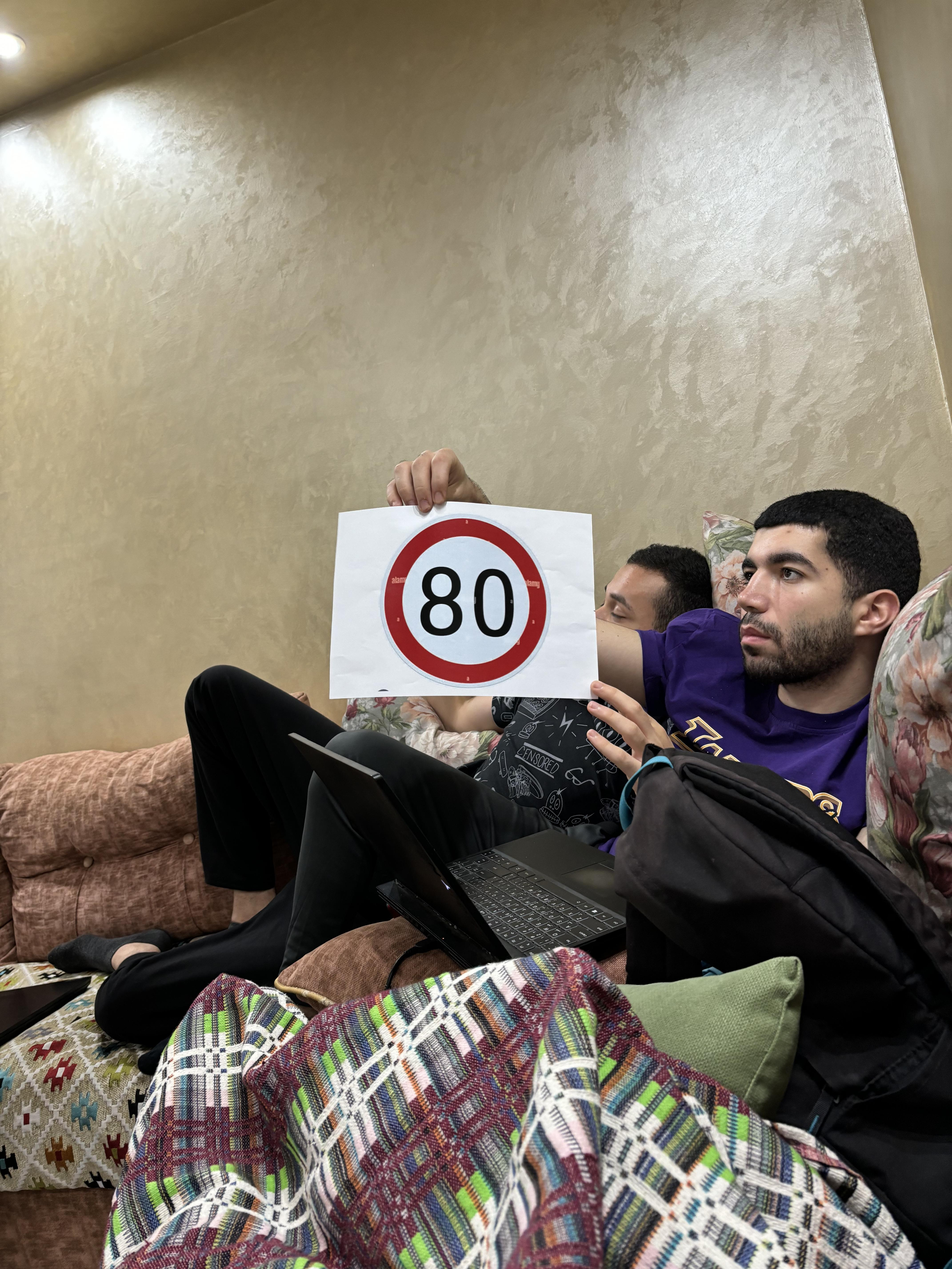80-Speed: (378, 509, 550, 689)
